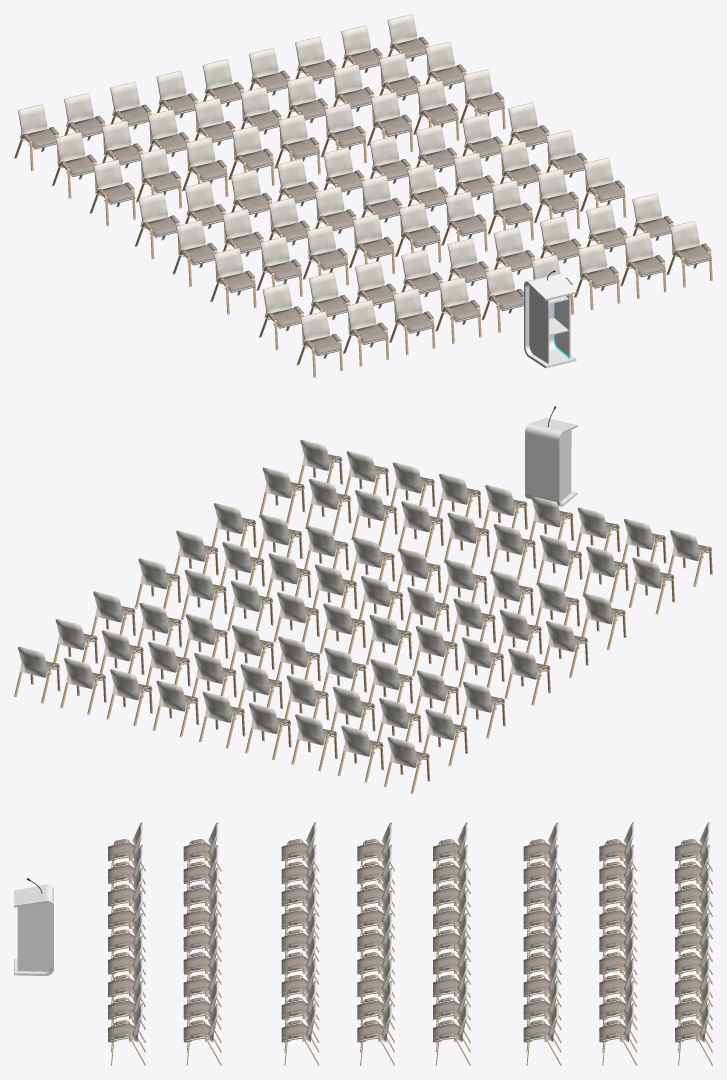
The model's file is cinema.glb.
3 renders of one model, top to bottom at view 1: azimuth 30°, elevation 25°; view 2: azimuth 150°, elevation 25°; view 3: azimuth 270°, elevation 25°, orthographic.
Visible parts, largest first — view 1: cinema chair.001, cinema chair, cinema chair.002, Podium; view 2: cinema chair, cinema chair.001, cinema chair.002, Podium; view 3: cinema chair, cinema chair.001, cinema chair.002, Podium.
Part boxes in pixels (x1,y1,x2,y2): cinema chair.001: [134, 102, 626, 314]; cinema chair: [14, 14, 505, 226]; cinema chair.002: [259, 193, 712, 377]; Podium: [524, 270, 576, 368]; cinema chair: [14, 591, 505, 793]; cinema chair.001: [134, 503, 626, 705]; cinema chair.002: [259, 440, 712, 614]; Podium: [525, 406, 577, 506]; cinema chair: [523, 822, 712, 1065]; cinema chair.001: [281, 822, 470, 1065]; cinema chair.002: [108, 822, 221, 1065]; Podium: [14, 878, 53, 975].
Bounding box in the file's own units: 7.97 × 1.7 × 12.
Materials: 7 (1 with a texture image).
